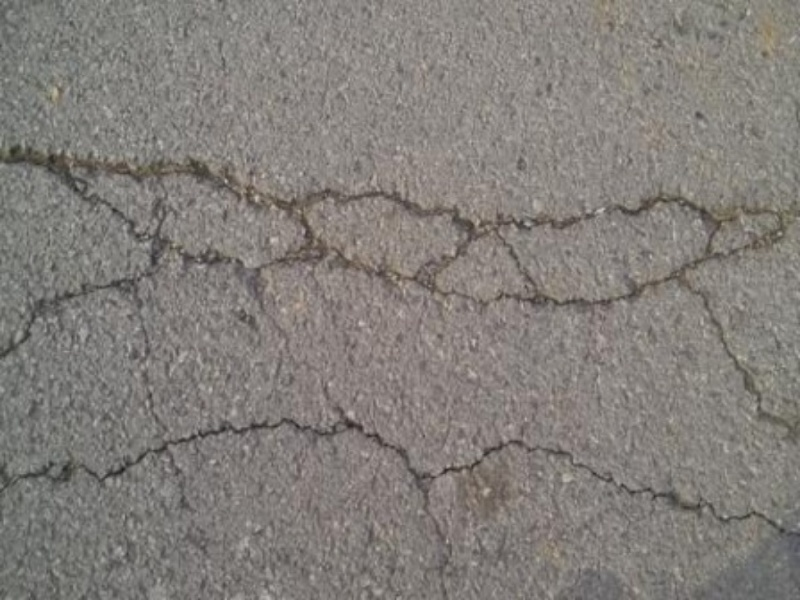crack: (13, 116, 800, 310), (2, 414, 798, 569), (3, 250, 174, 355), (702, 324, 795, 458)
